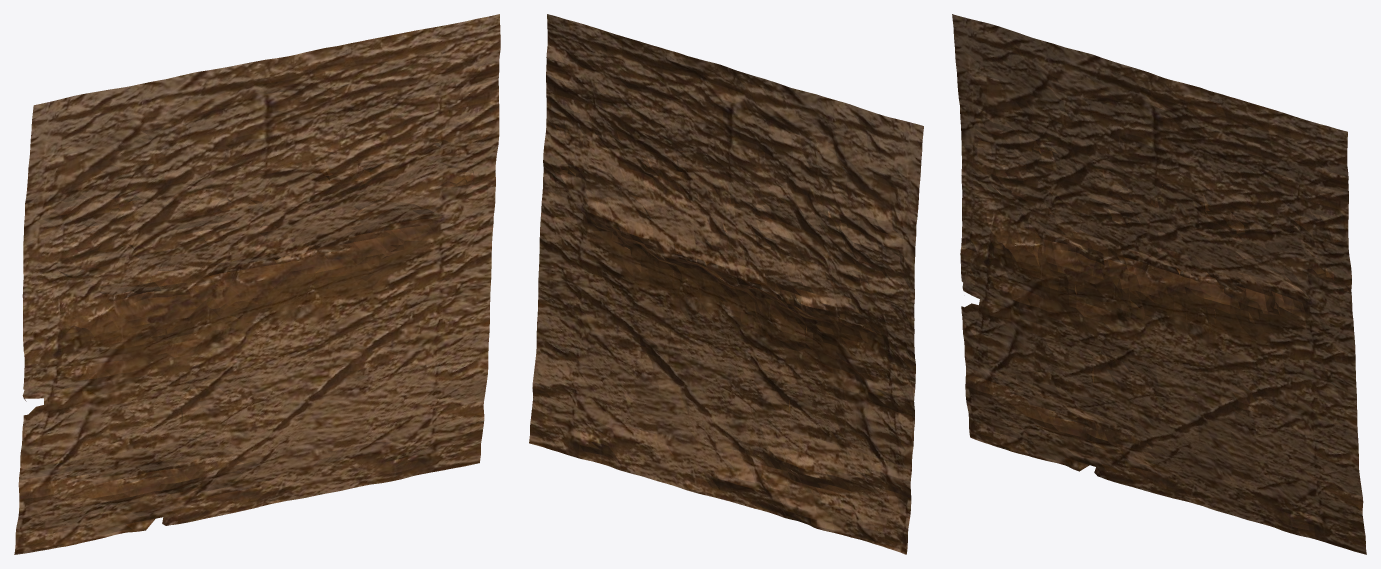
3 views of the same model, side by side, from view 1: azimuth 30°, elevation 25°; view 2: azimuth 150°, elevation 25°; view 3: azimuth 330°, elevation 25° (orthographic). The views are drawn at different scales.
Size of the model in its own units: 1.04 by 1.04 by 0.1764.
2 materials, 2 textured.
